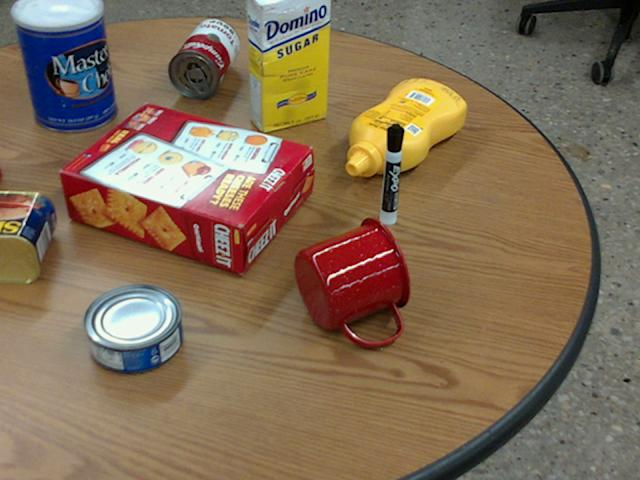cracker_box: (61, 102, 311, 273)
large_marker: (380, 123, 403, 224)
master_chef_can: (13, 0, 116, 131)
mug: (294, 217, 411, 345)
mustard_bottle: (346, 80, 464, 176)
potted_meat_can: (0, 190, 54, 281)
sugar_box: (247, 0, 330, 132)
tomato_soup_can: (167, 19, 237, 97)
tuna_fish_can: (82, 283, 180, 371)
